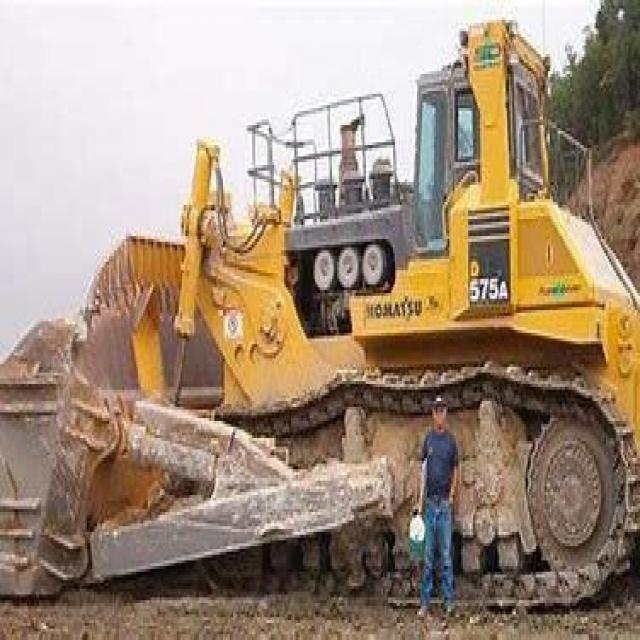Bulldozer: (26, 14, 638, 600)
